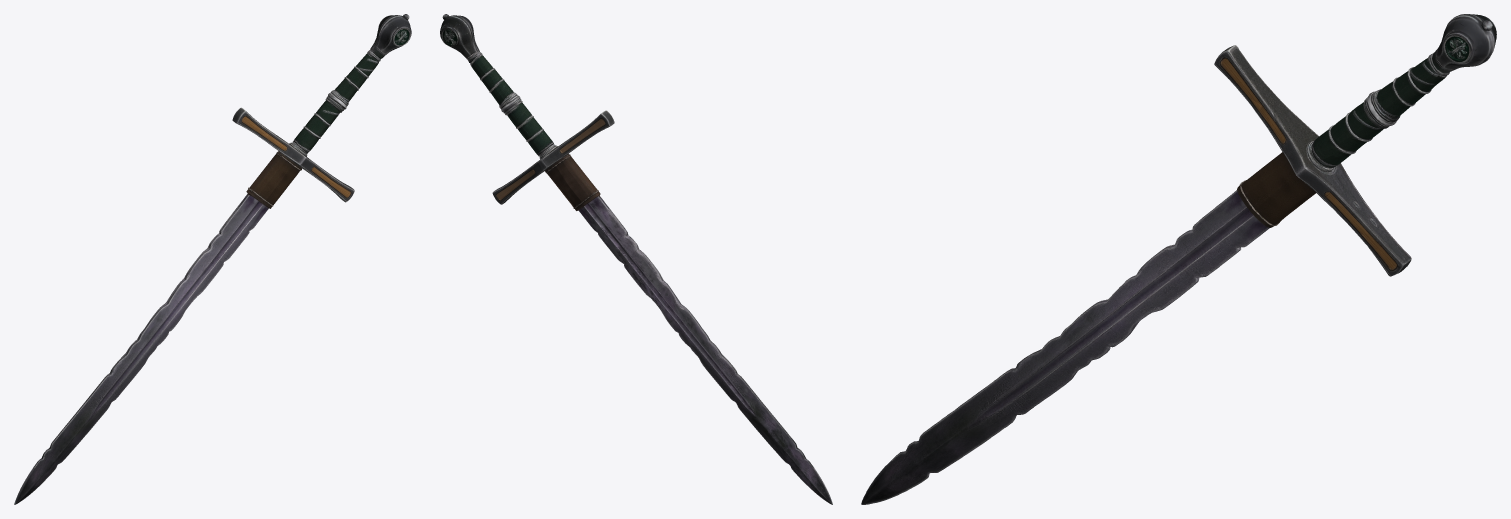
File: spadone_guarnigione_sylvorn.glb
The picture shows the model from 3 angles, left to right: view 1: azimuth 30°, elevation 25°; view 2: azimuth 150°, elevation 25°; view 3: azimuth 330°, elevation 25°; orthographic projection. The views are drawn at different scales.
Visible parts, largest first — view 1: mesh_node; view 2: mesh_node; view 3: mesh_node.
Boxes of the visible parts, left/top/right/bottom form: mesh_node: left=14, top=14, right=411, bottom=504; mesh_node: left=440, top=14, right=832, bottom=504; mesh_node: left=861, top=14, right=1496, bottom=504.
Bounding box in the file's own units: 1.9 × 1.83 × 0.1533.
1 material, 1 textured.
